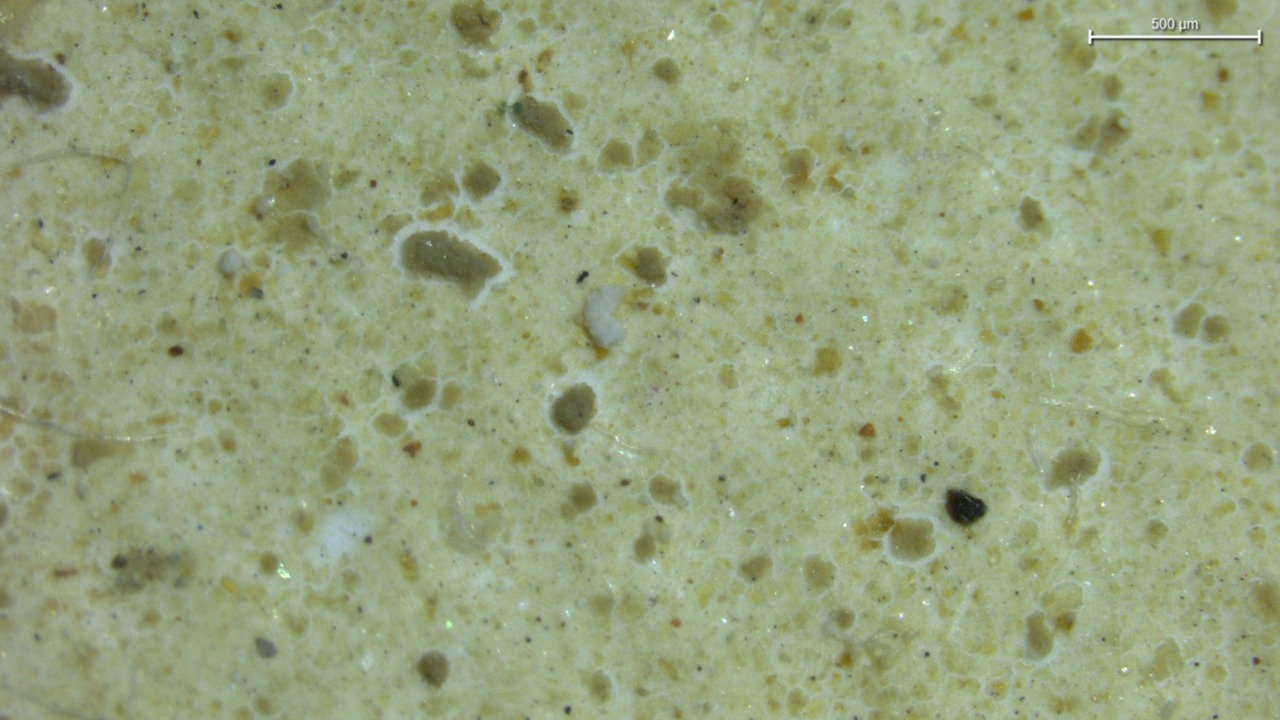microplastic_fragment: (584, 285, 625, 349), (217, 251, 242, 276)
